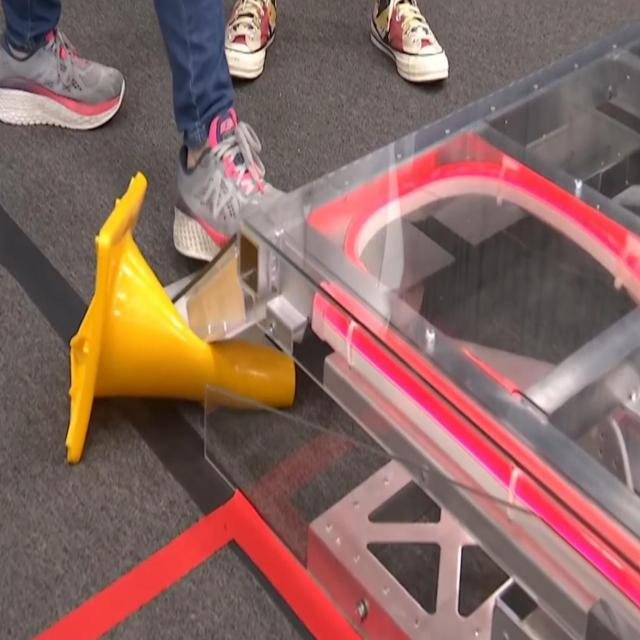frc_cone: (65, 165, 296, 472)
